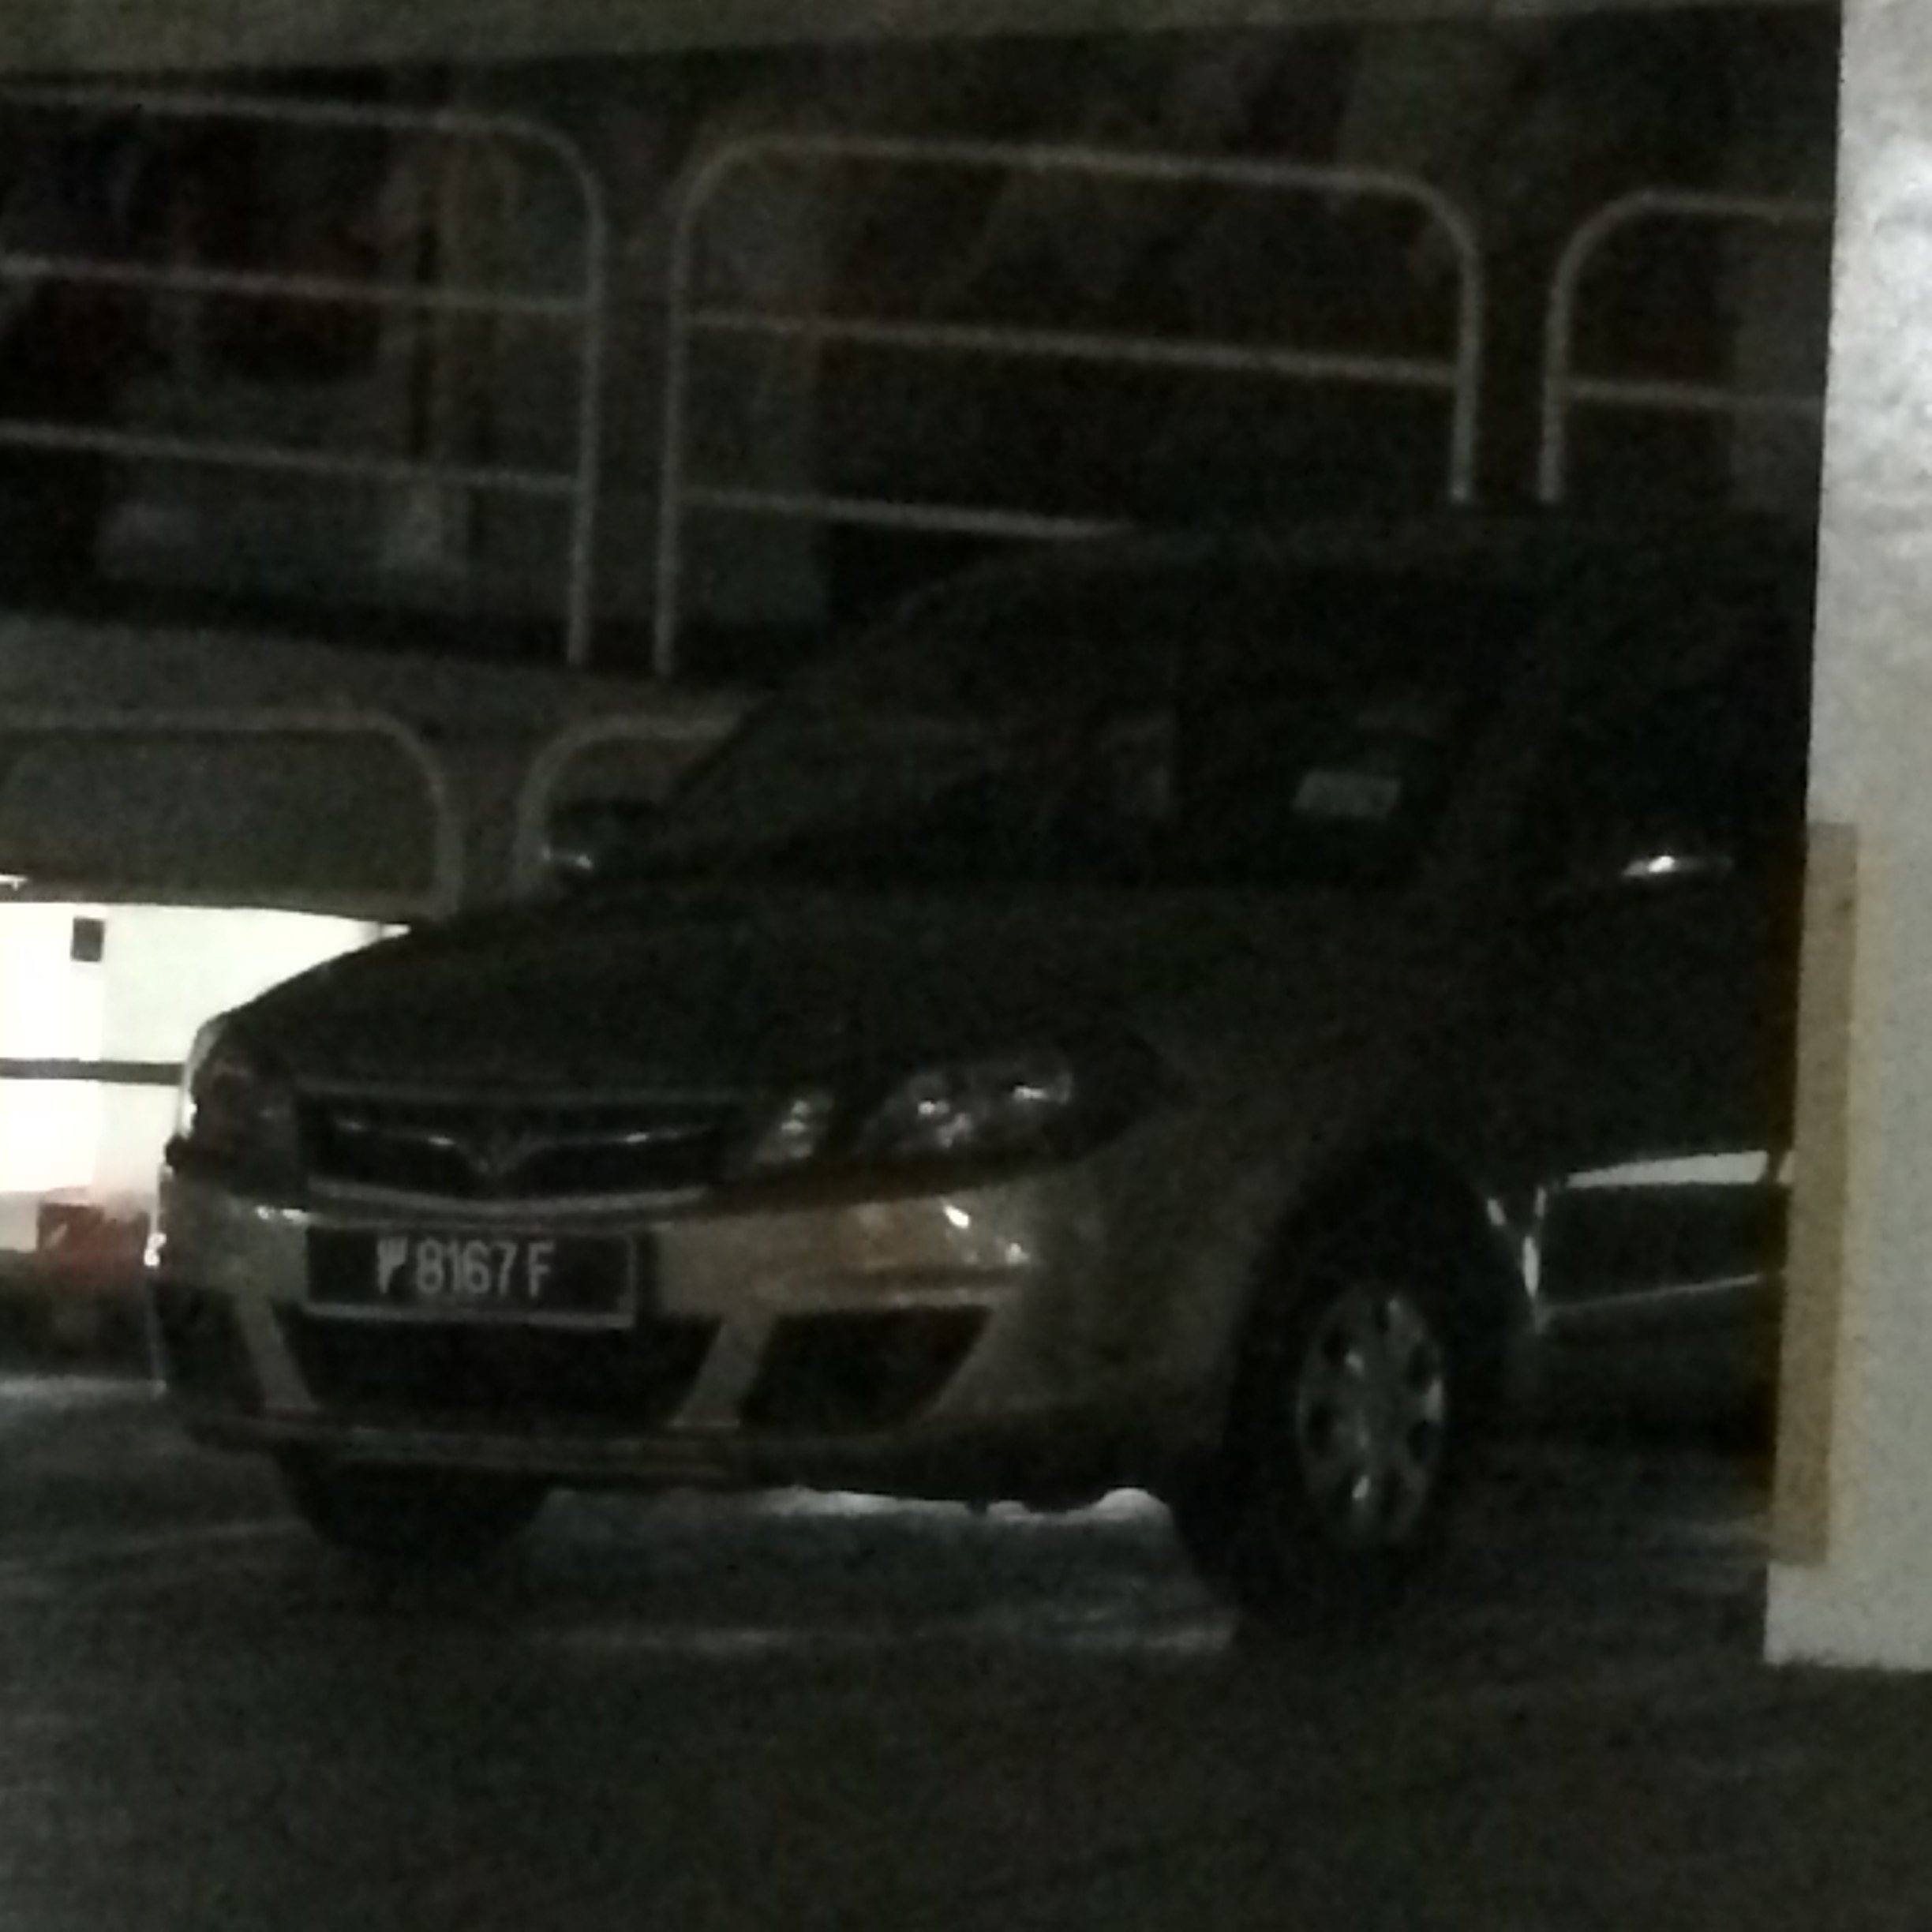car: (117, 441, 1849, 1633)
